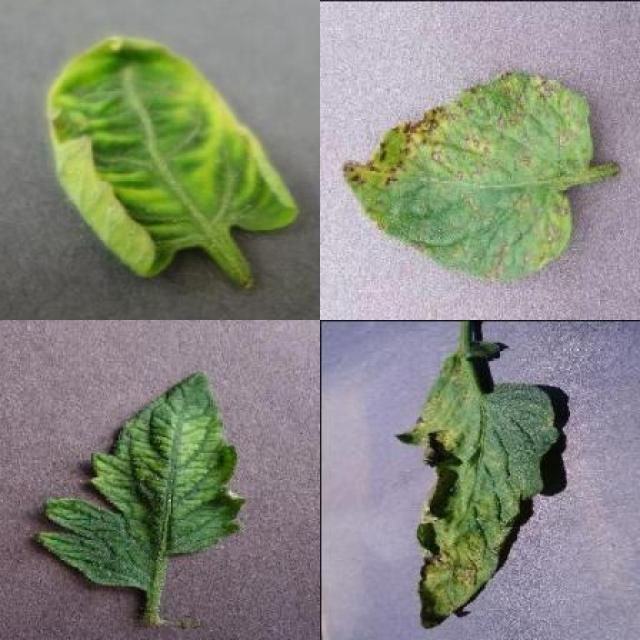Mosaic Virus: (32, 368, 247, 593)
Septoria: (342, 71, 595, 282), (394, 338, 560, 628)
Yellow Leaf Curl Virus: (46, 32, 300, 279)
